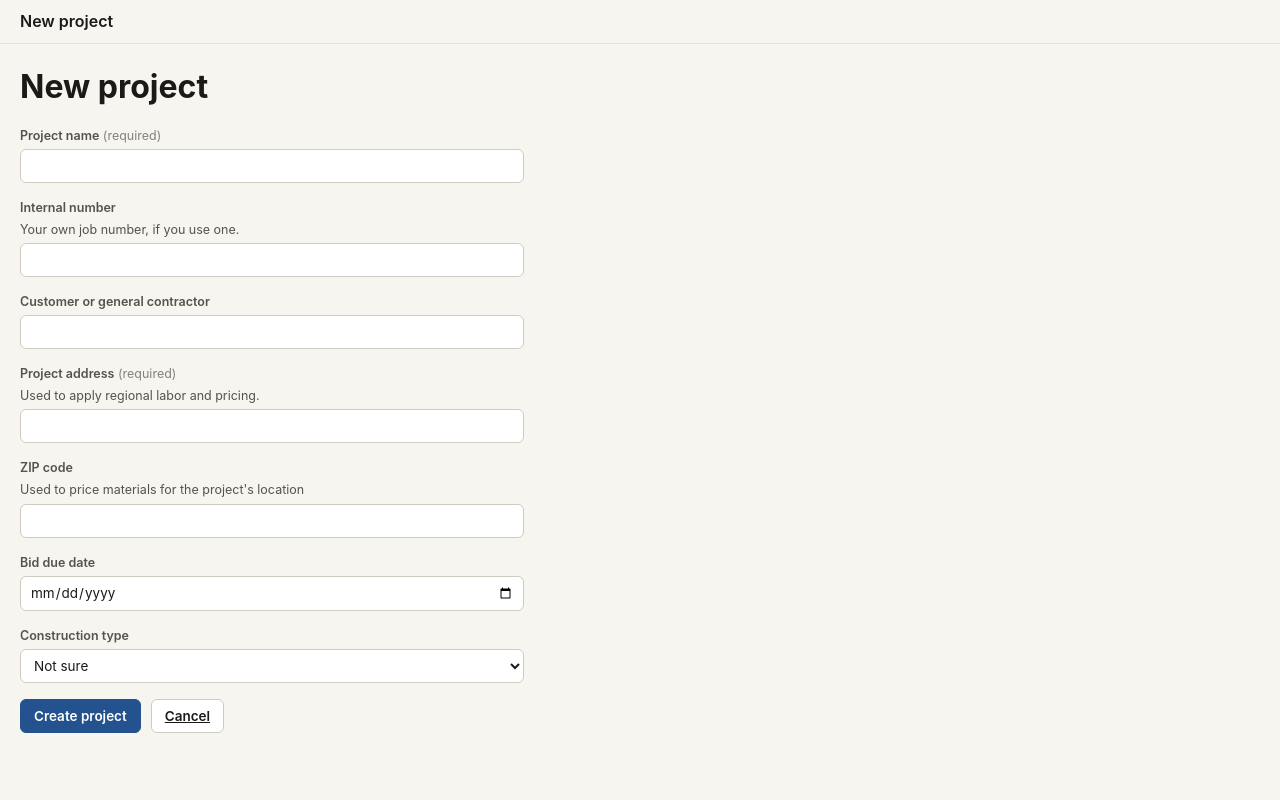
Scenario: NewProject › keeps the entered values and names a recovery action when creation fails
Type "Oakview High School" into the field labelled "Project name (required)".
click(272, 166); type("Oakview High School")  # box [20,149,524,183]
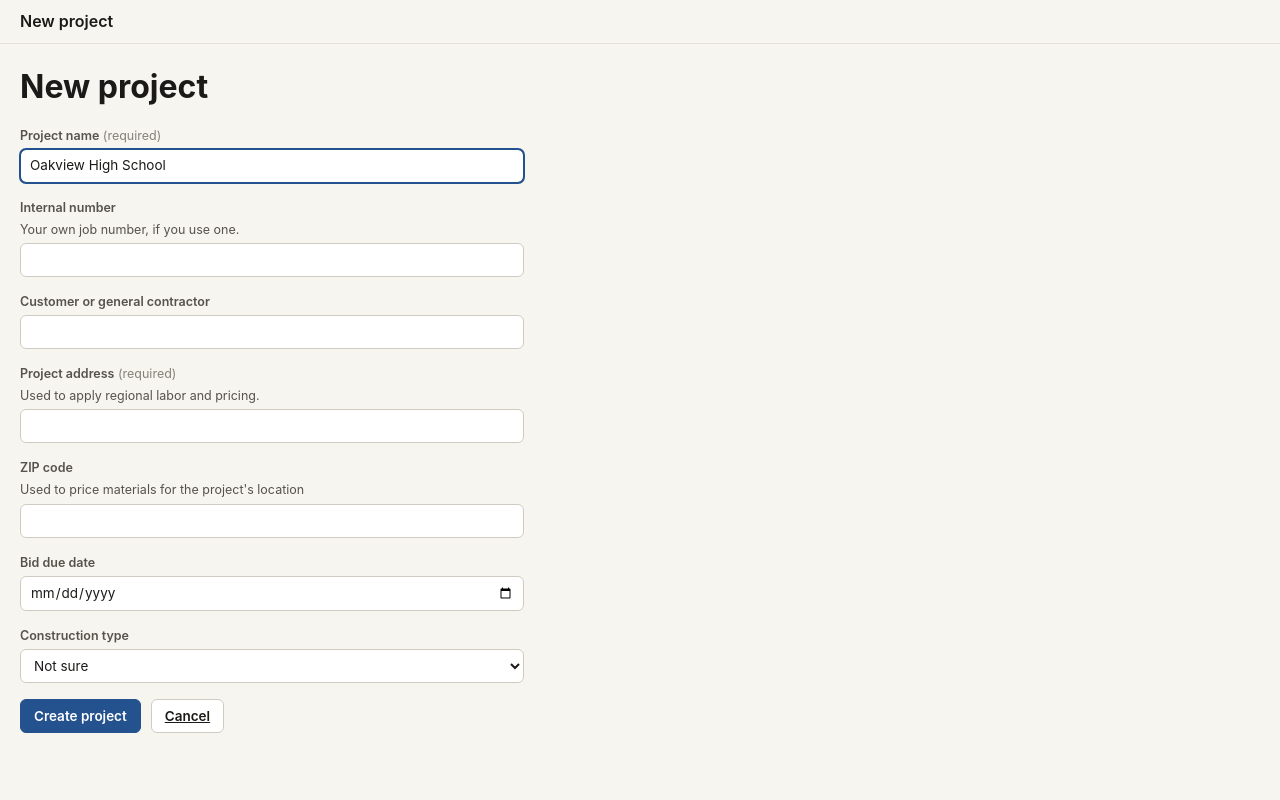
Type "Modesto, CA" into the field labelled "Project address (required)".
click(272, 426); type("Modesto, CA")  # box [20,409,524,443]
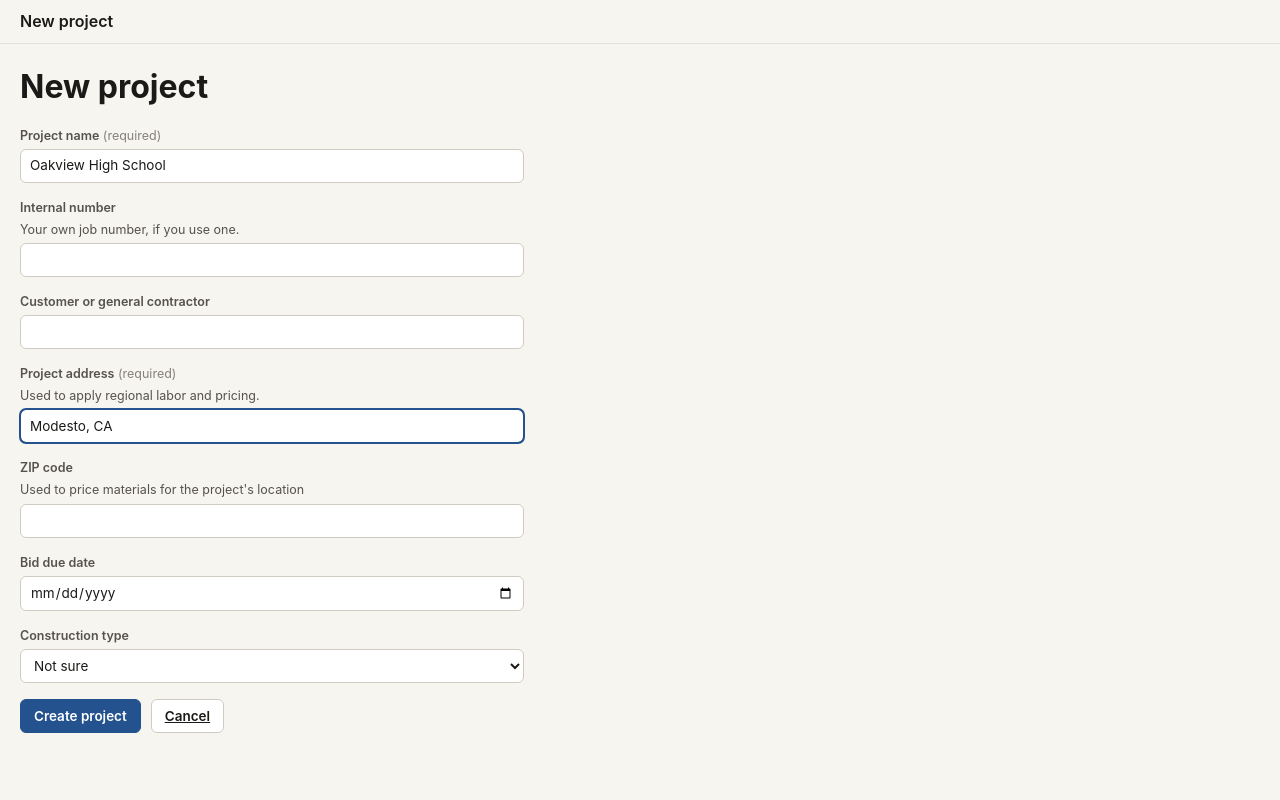
Click the button "Create project".
click(80, 716)  # box [20,699,141,733]
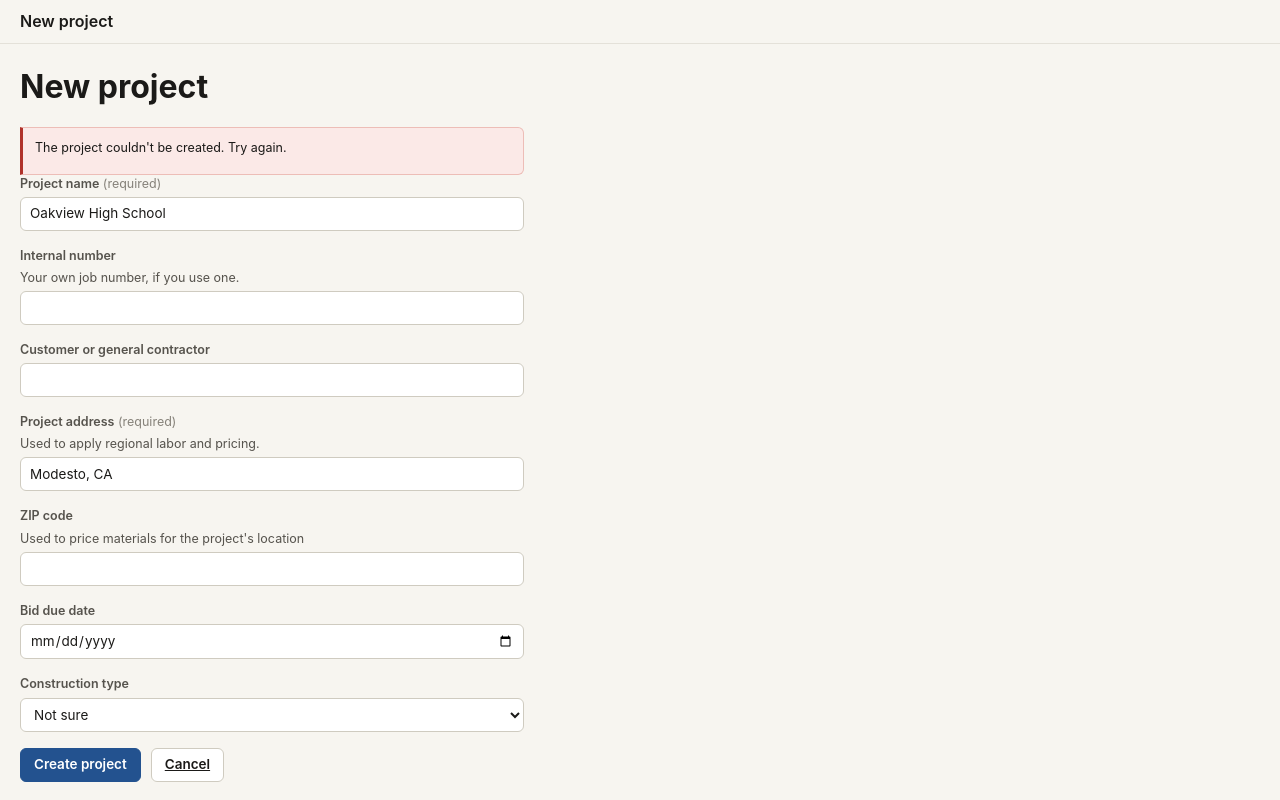
Expected: the message shows "Try again", [35,140,286,155]
